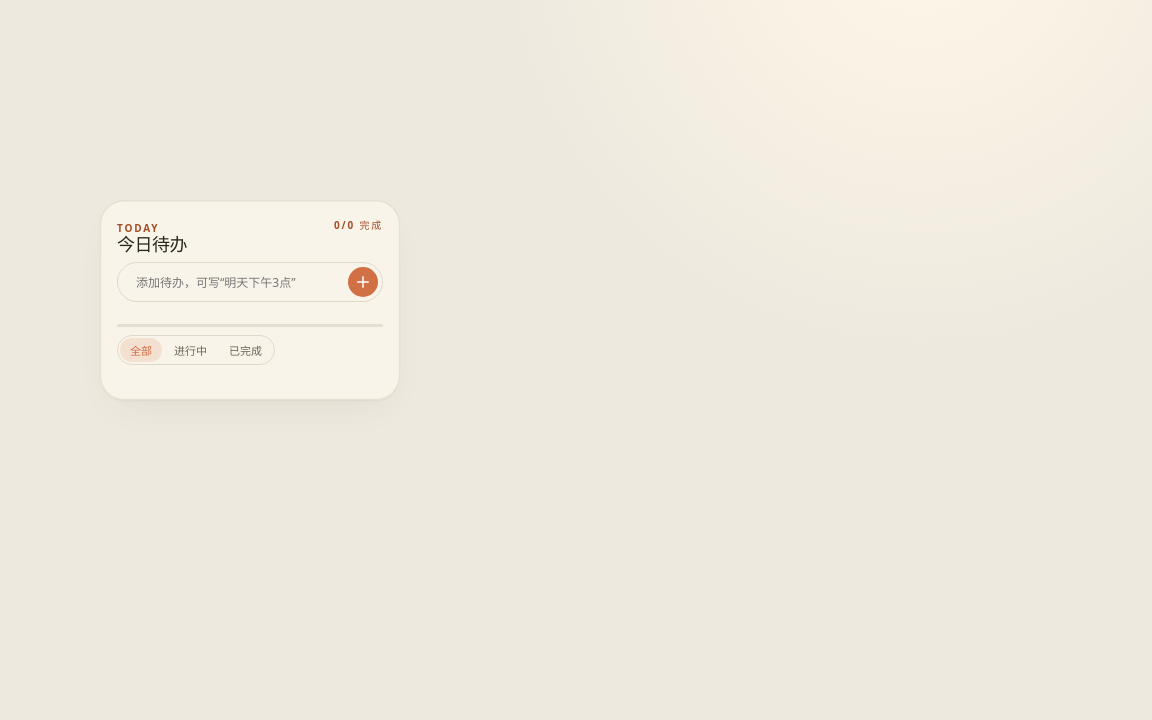
it: WidgetConfigPopover 组件 › 卡片挂载后立刻打开弹层：越过 160ms 退场窗口仍保持挂载（useDelayedUnmount 陈旧计时器回归）
Hover over the element with class "widget-card" at (250, 300), box left=100, top=200, right=400, bottom=400
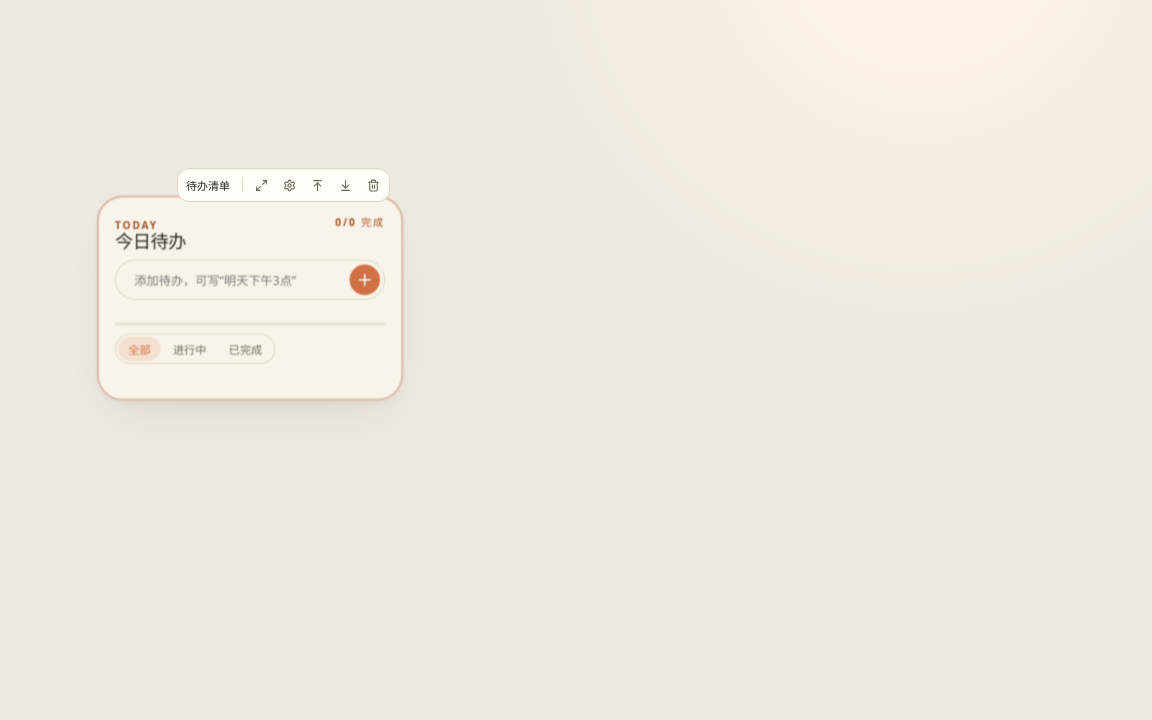
Click the button named "配置此小组件" at (289, 185), box left=277, top=173, right=301, bottom=197
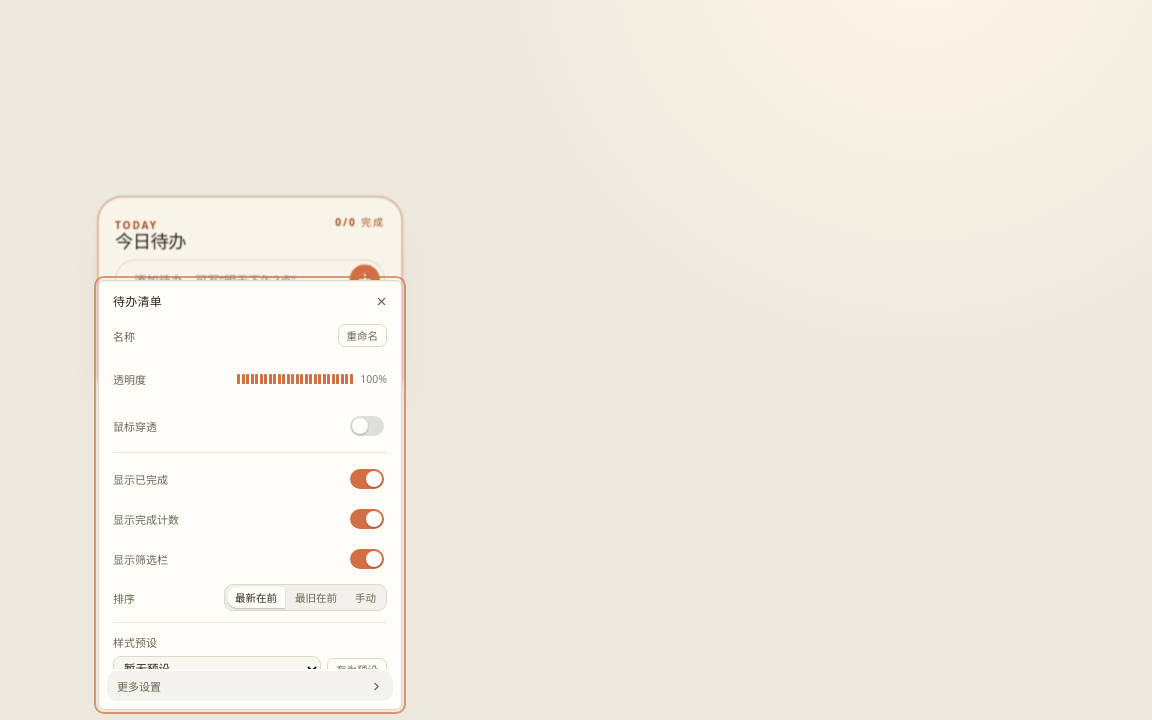
Check: the switch named "显示已完成" is shown, box left=347, top=464, right=387, bottom=494
